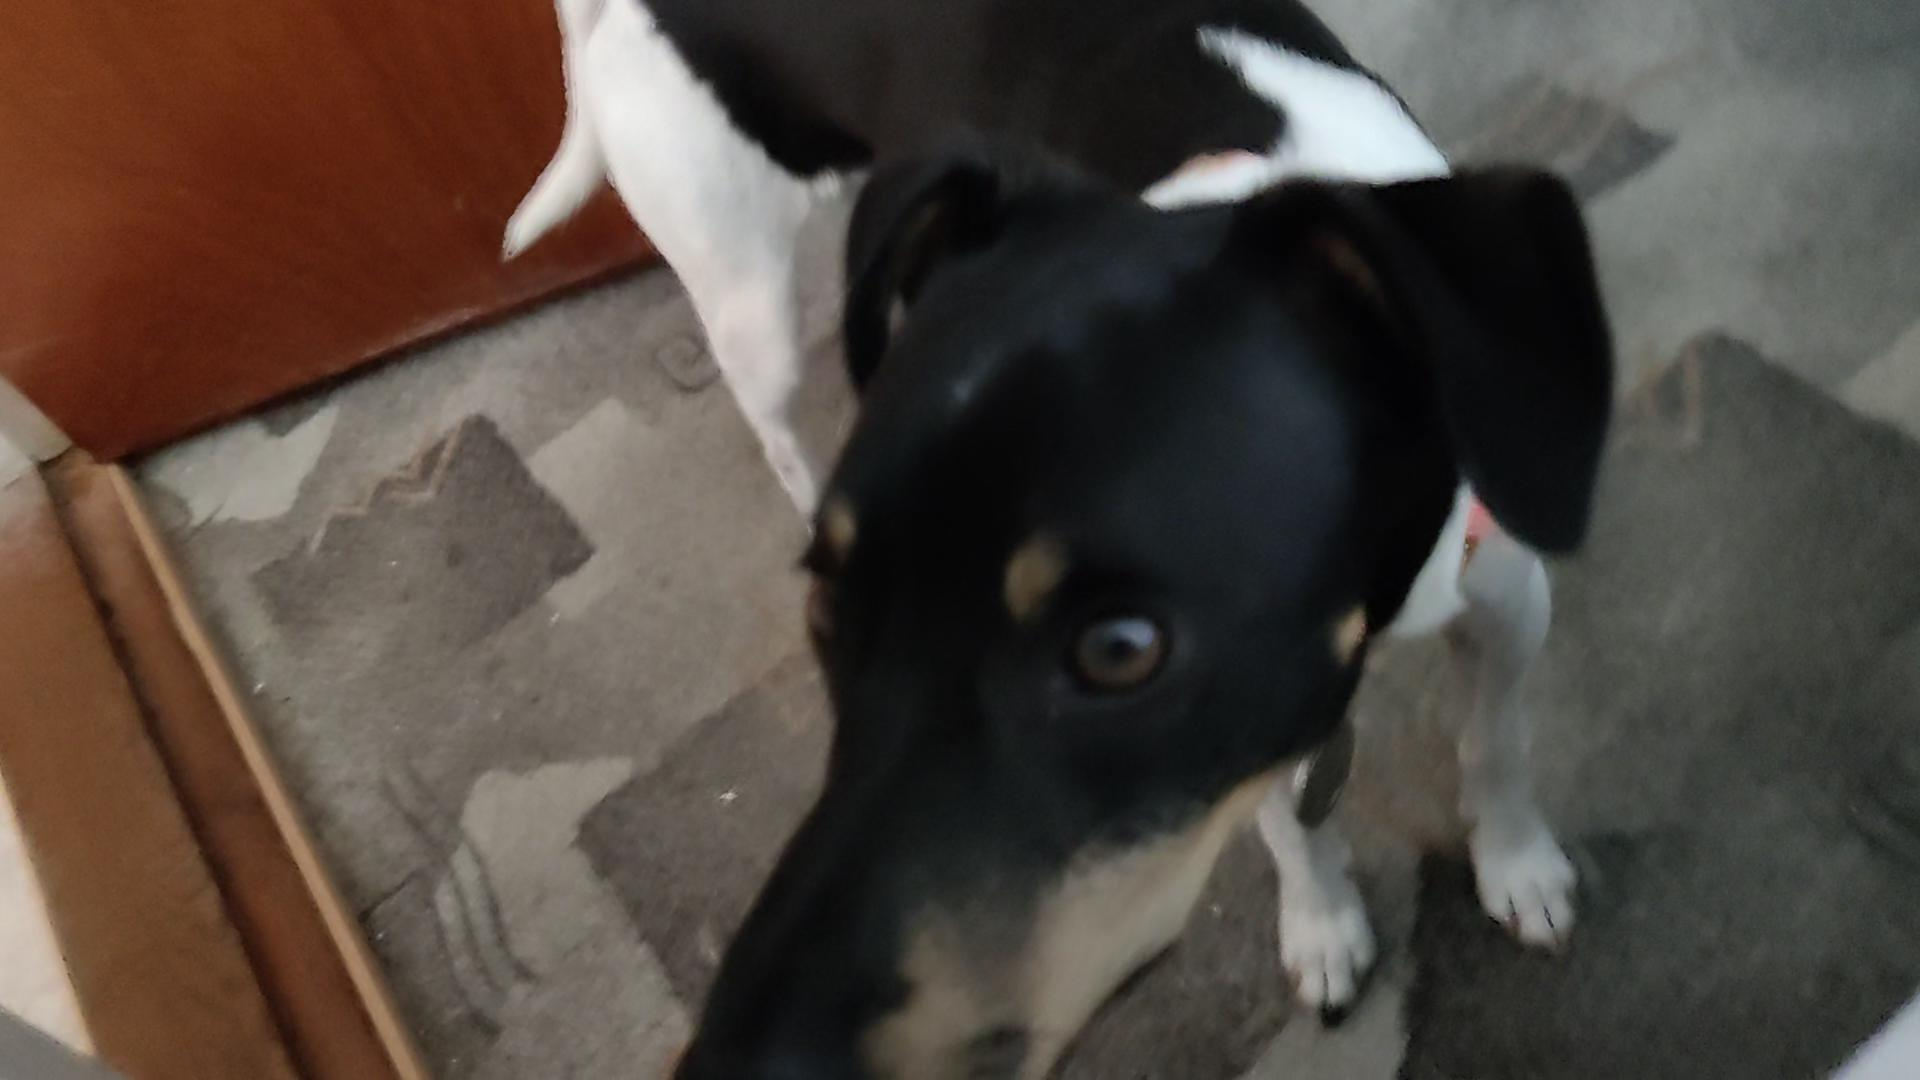Dog: (450, 0, 1642, 1079)
